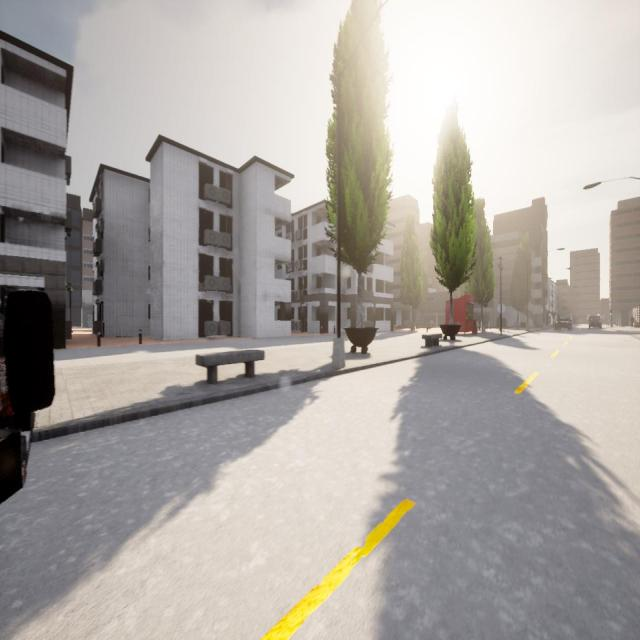Traffic_Signs: (496, 302, 506, 314)
Vehicle: (0, 289, 56, 505), (554, 314, 572, 332), (588, 315, 602, 330)
traffic_light: (610, 310, 612, 318)
